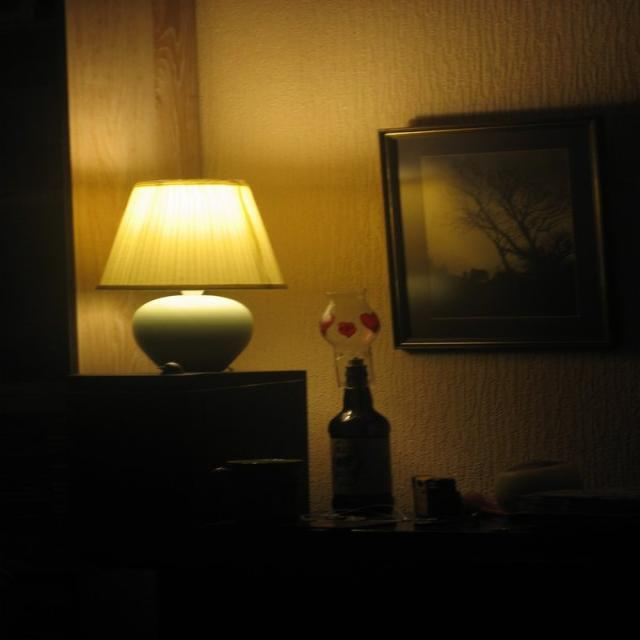Bottle: (328, 360, 424, 518)
Cup: (203, 442, 306, 545)
Table: (138, 473, 640, 640), (0, 356, 318, 538)
